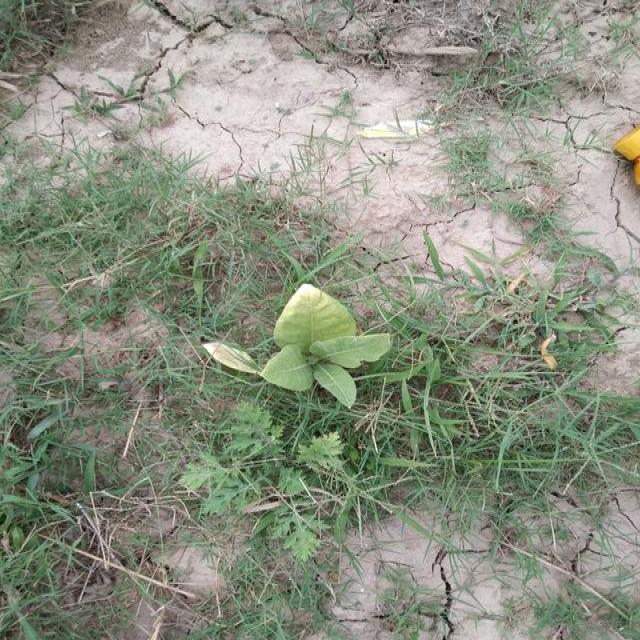crop: (194, 260, 402, 415)
